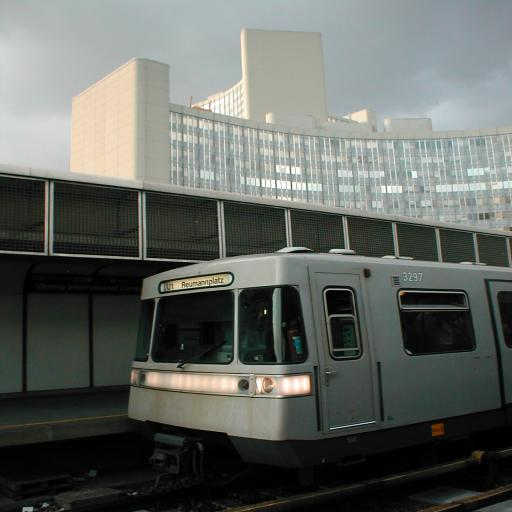Silberpfeil: (125, 242, 512, 456)
